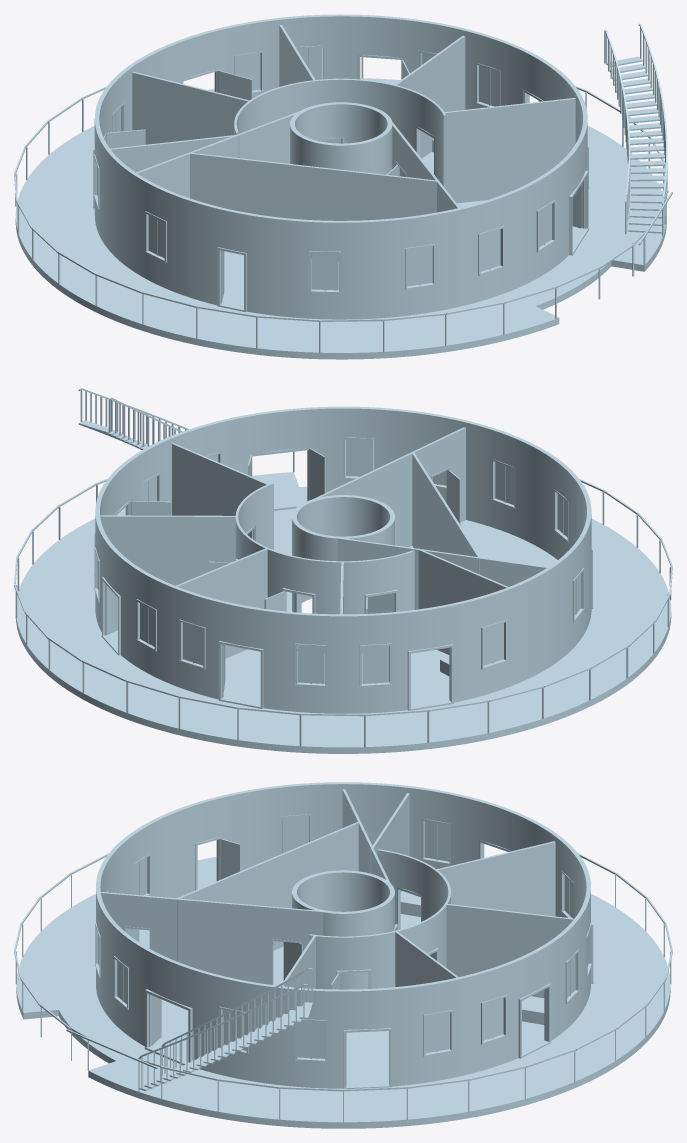
Rendered from tower_floor_mid.glb.
3 renders of one model, top to bottom at view 1: azimuth 30°, elevation 25°; view 2: azimuth 150°, elevation 25°; view 3: azimuth 270°, elevation 25°, orthographic.
Parts seen in each view (by area): view 1: Facade 1, Slab 1, Radial demise wall (×5), Bedroom-bath wall, Corridor wall 1, Elevator shell 1, Window glass (×7), Core tangent wall, Door leaf (×2), Living-bedroom separator; view 2: Facade 1, Slab 1, Radial demise wall (×4), Corridor wall 1, Window glass (×7), Elevator shell 1, Living-bedroom separator (×3), Core tangent wall, Bedroom-bath wall, Door leaf (×2), Main door leaf, Separator door leaf (bed); view 3: Facade 1, Slab 1, Radial demise wall (×5), Living-bedroom separator (×5), Corridor wall 1, Bedroom-bath wall, Elevator shell 1, Window glass (×5), Core tangent wall, Door leaf, Main door leaf, Bed (single).
Part boxes in pixels (<box>): Facade 1: <box>94,14,587,319</box>; Slab 1: <box>15,78,666,359</box>; Radial demise wall (×5): <box>110,25,575,203</box>; Bedroom-bath wall: <box>188,152,438,261</box>; Corridor wall 1: <box>234,78,446,189</box>; Elevator shell 1: <box>290,102,392,174</box>; Window glass (×7): <box>148,47,500,290</box>; Core tangent wall: <box>136,111,298,198</box>; Door leaf (×2): <box>104,70,252,148</box>; Living-bedroom separator: <box>406,142,446,212</box>; Facade 1: <box>95,406,591,713</box>; Slab 1: <box>15,472,671,753</box>; Radial demise wall (×4): <box>100,443,507,658</box>; Corridor wall 1: <box>235,482,414,653</box>; Window glass (×7): <box>140,439,514,683</box>; Elevator shell 1: <box>292,495,394,612</box>; Living-bedroom separator (×3): <box>348,427,465,547</box>; Core tangent wall: <box>337,538,547,613</box>; Bedroom-bath wall: <box>411,452,480,573</box>; Door leaf (×2): <box>105,501,171,634</box>; Main door leaf: <box>307,448,325,500</box>; Separator door leaf (bed): <box>448,470,460,525</box>; Facade 1: <box>96,782,590,1088</box>; Slab 1: <box>16,856,670,1128</box>; Radial demise wall (×5): <box>282,793,573,998</box>; Living-bedroom separator (×5): <box>101,892,322,984</box>; Corridor wall 1: <box>309,849,450,989</box>; Bedroom-bath wall: <box>176,821,360,961</box>; Elevator shell 1: <box>292,870,394,989</box>; Window glass (×5): <box>282,816,503,1058</box>; Core tangent wall: <box>342,789,390,882</box>; Door leaf: <box>218,839,240,880</box>; Main door leaf: <box>149,994,161,1046</box>; Bed (single): <box>522,996,544,1024</box>.
Bounding box in the file's own units: 20.15 × 4.84 × 20.15.
